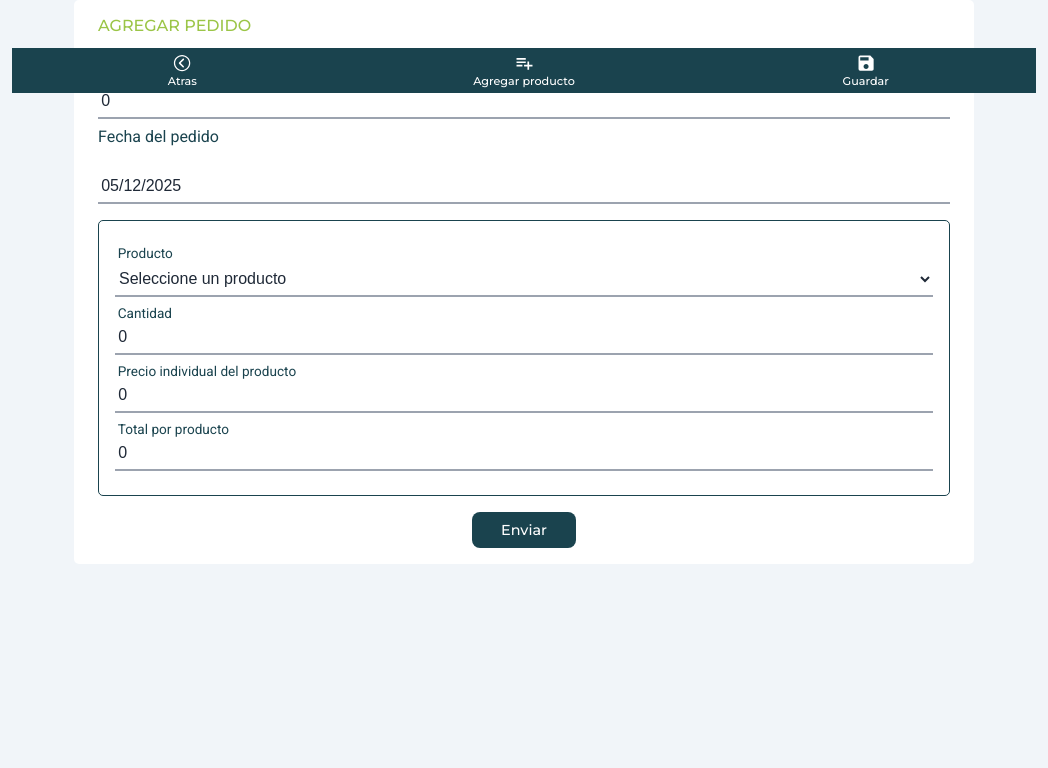
Test: AddEditOrderPage › Add Order Mode › handles product selection and updates price
Select "Wolf Snack Mix Bolsa 500" in the dropdown labelled "Producto" at (524, 279), box 115,261 -> 933,297
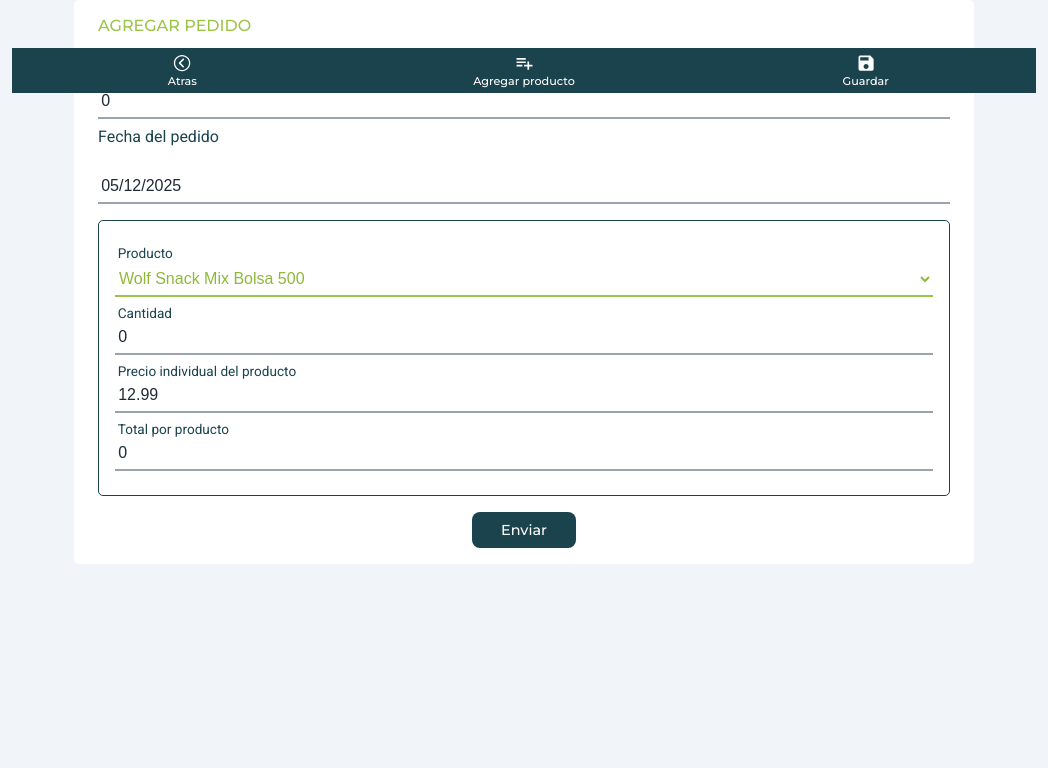
Now the number field labelled "Precio individual del producto" holds "12.99", box 115,379 -> 933,413
